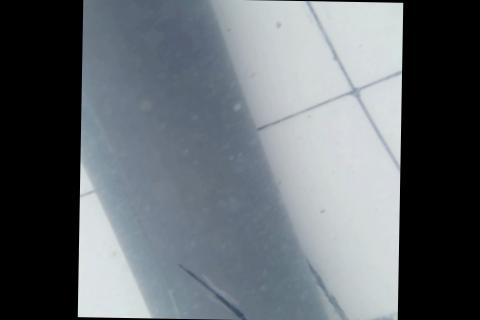keretakan: (175, 264, 309, 320)
